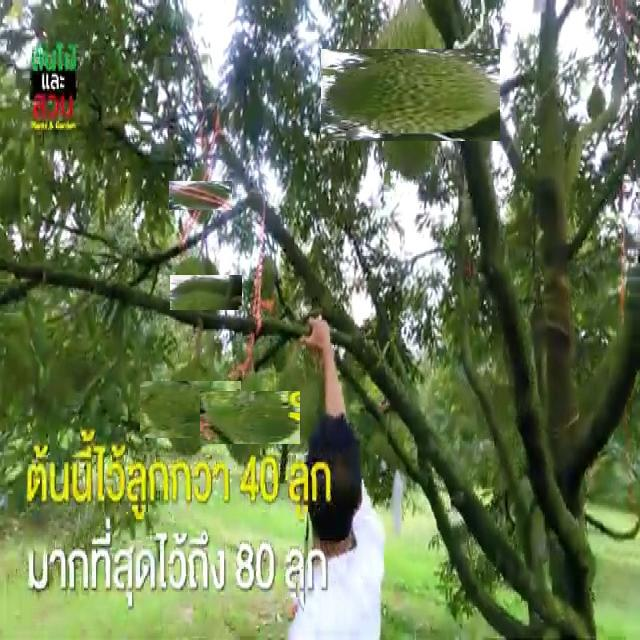durian: (342, 27, 478, 163), (151, 370, 231, 449), (212, 379, 288, 455), (179, 265, 233, 319), (170, 258, 210, 318), (178, 172, 224, 219)
